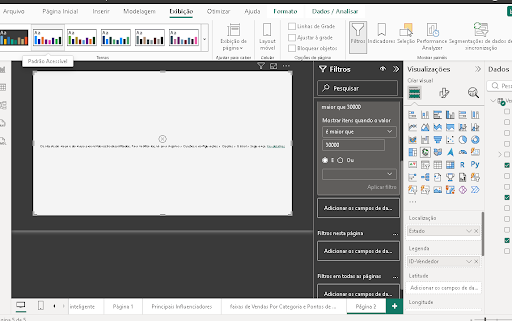

This screenshot's page, from the dashboard's own definition file:
{"tool":"powerbi","page":{"name":"Total Valor   venda por Estado e Vendedor ","canvas":[1280,720],"ordinal":4},"visuals":[{"type":"map","fields":{"Category":["Vendas.Estado"],"Series":["Vendas.Vendedor"],"Size":["Sum(Vendas.ValorVenda)"]},"box":[75.8,47,1204.2,620.3],"z":0}]}

Visuals, with their boxes on the page's 1280x720 design canvas (x1, y1, x2, y2). These are canvas units, not pixel positions in the 512x321 screenshot, which may show the page scaled, cropped or inside an application window:
map - Vendas.Estado x Vendas.Vendedor: x1=76, y1=47, x2=1280, y2=667
